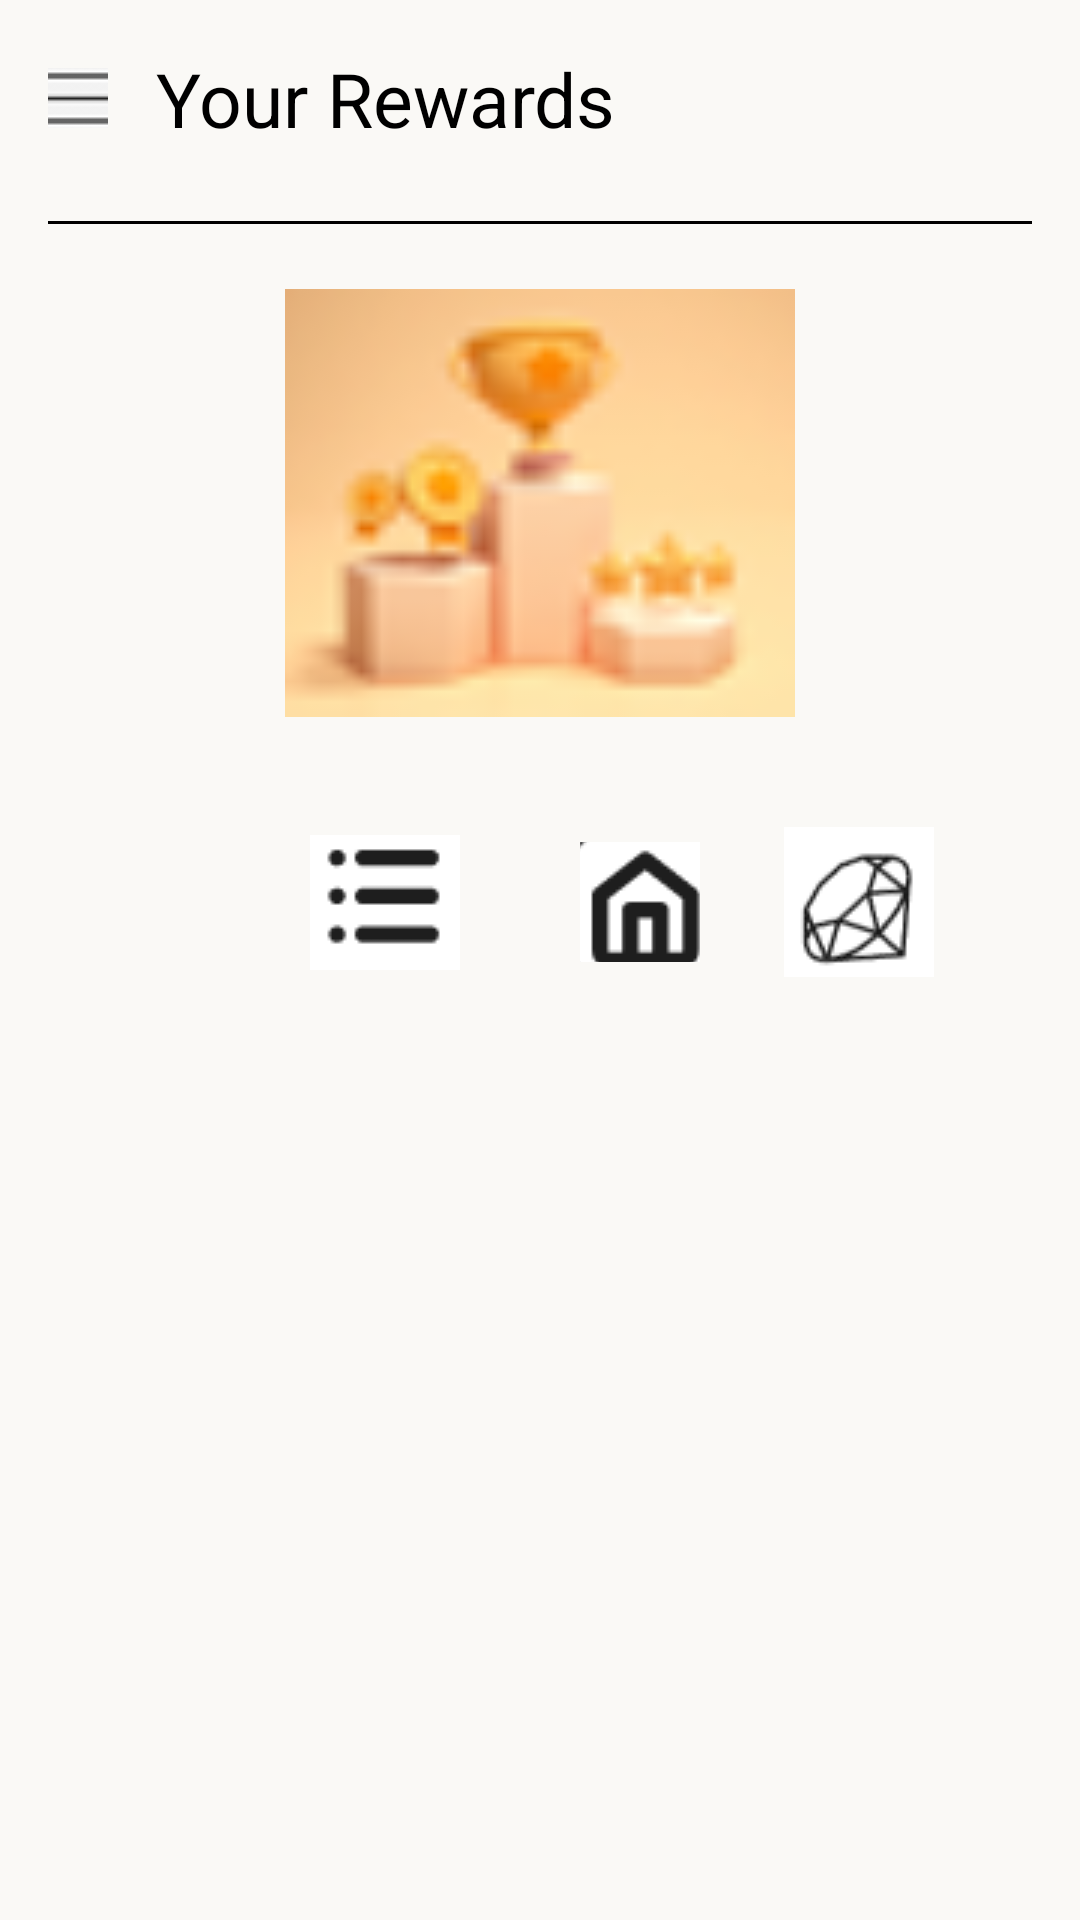

Named icons in this screenshot (1080×1920) and their bounding boxes, (x1, y1, x2, y2):
home: (580, 842, 700, 962)
Menu: (48, 72, 108, 125)
reward: (784, 827, 934, 977)
todo: (327, 849, 440, 944)
